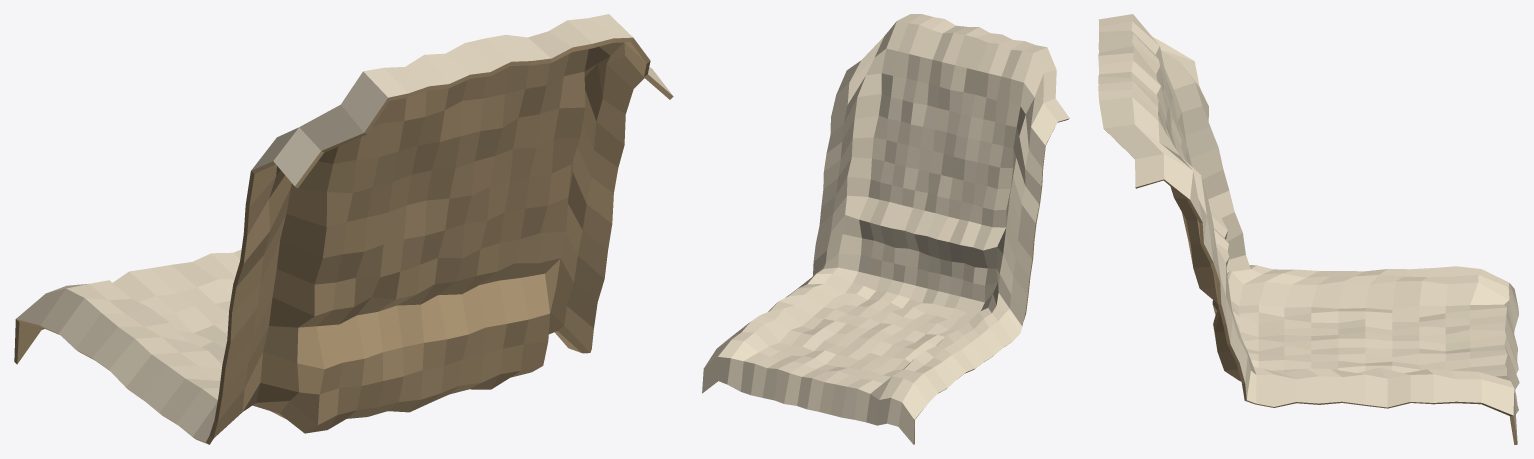
File: seatcover_sheepskin_modern.glb
The picture shows the model from 3 angles, left to right: view 1: azimuth 30°, elevation 25°; view 2: azimuth 150°, elevation 25°; view 3: azimuth 270°, elevation 25°; orthographic projection. The views are drawn at different scales.
Parts seen in each view (by area): view 1: SeatCover; view 2: SeatCover; view 3: SeatCover.
Boxes of the visible parts, bbox=[...] form: SeatCover: bbox=[14, 14, 673, 444]; SeatCover: bbox=[702, 14, 1069, 444]; SeatCover: bbox=[1098, 14, 1519, 444].
Size of the model in its own units: 0.5102 by 0.6228 by 0.7214.
